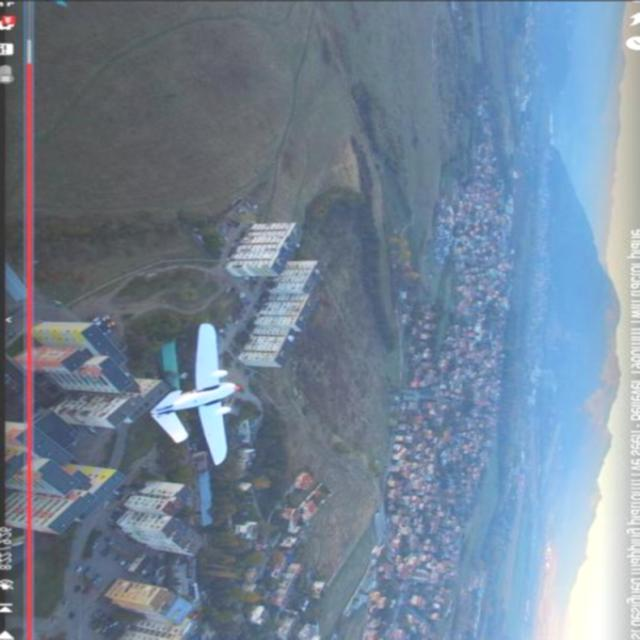plane: (150, 320, 244, 465)
